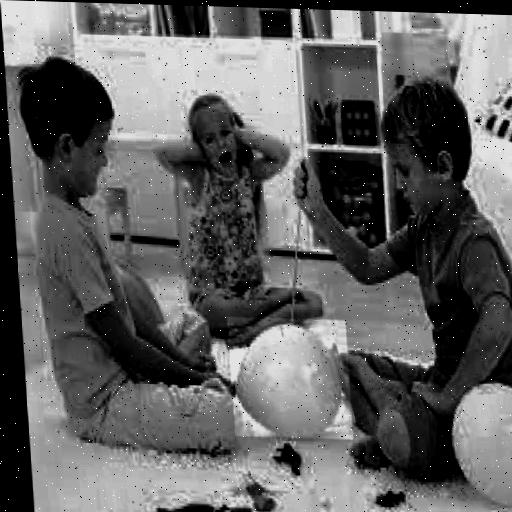balloon: (226, 317, 351, 439), (441, 378, 512, 503)
